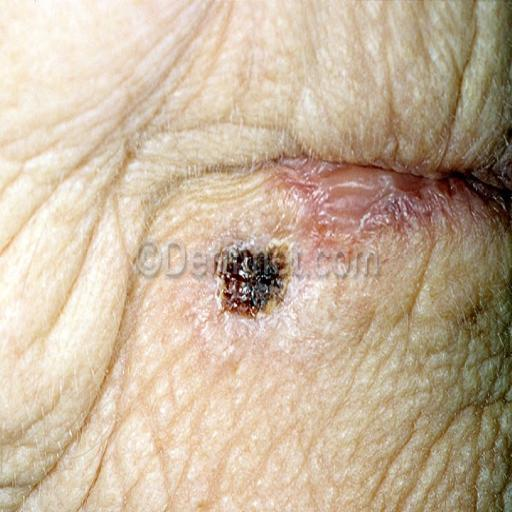Skin_Lesion: (219, 240, 292, 330)
